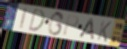A: (79, 18, 95, 41)
D: (27, 7, 46, 32)
G: (47, 11, 65, 37)
I: (18, 7, 30, 31)
K: (96, 19, 113, 44)
P: (62, 14, 80, 37)
